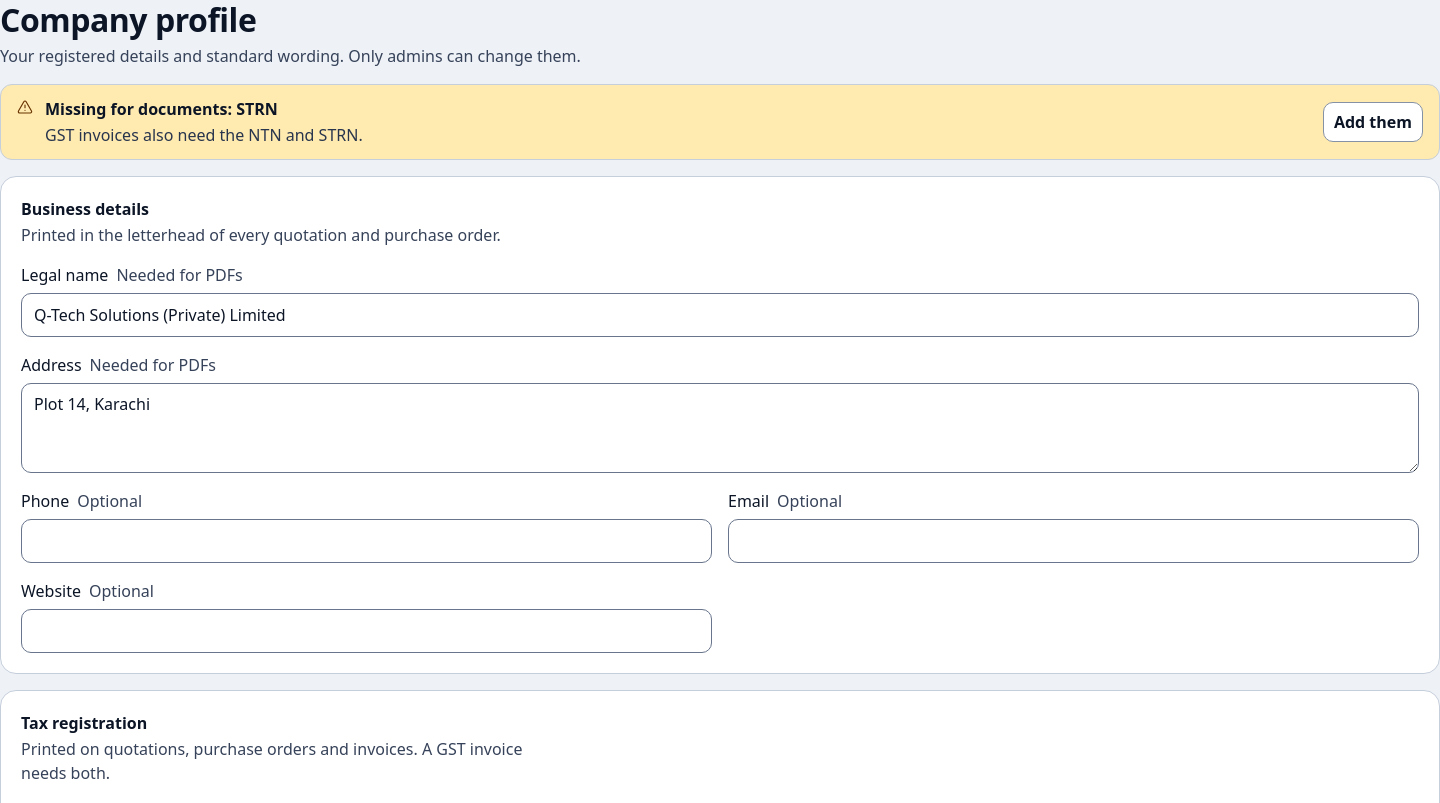
Test: Company profile screen › discard puts the saved values back
The image size is (1440, 803).
Type " Ltd" into the field labelled "Legal name" at (720, 315), box x1=21 y1=293 x2=1419 y2=337
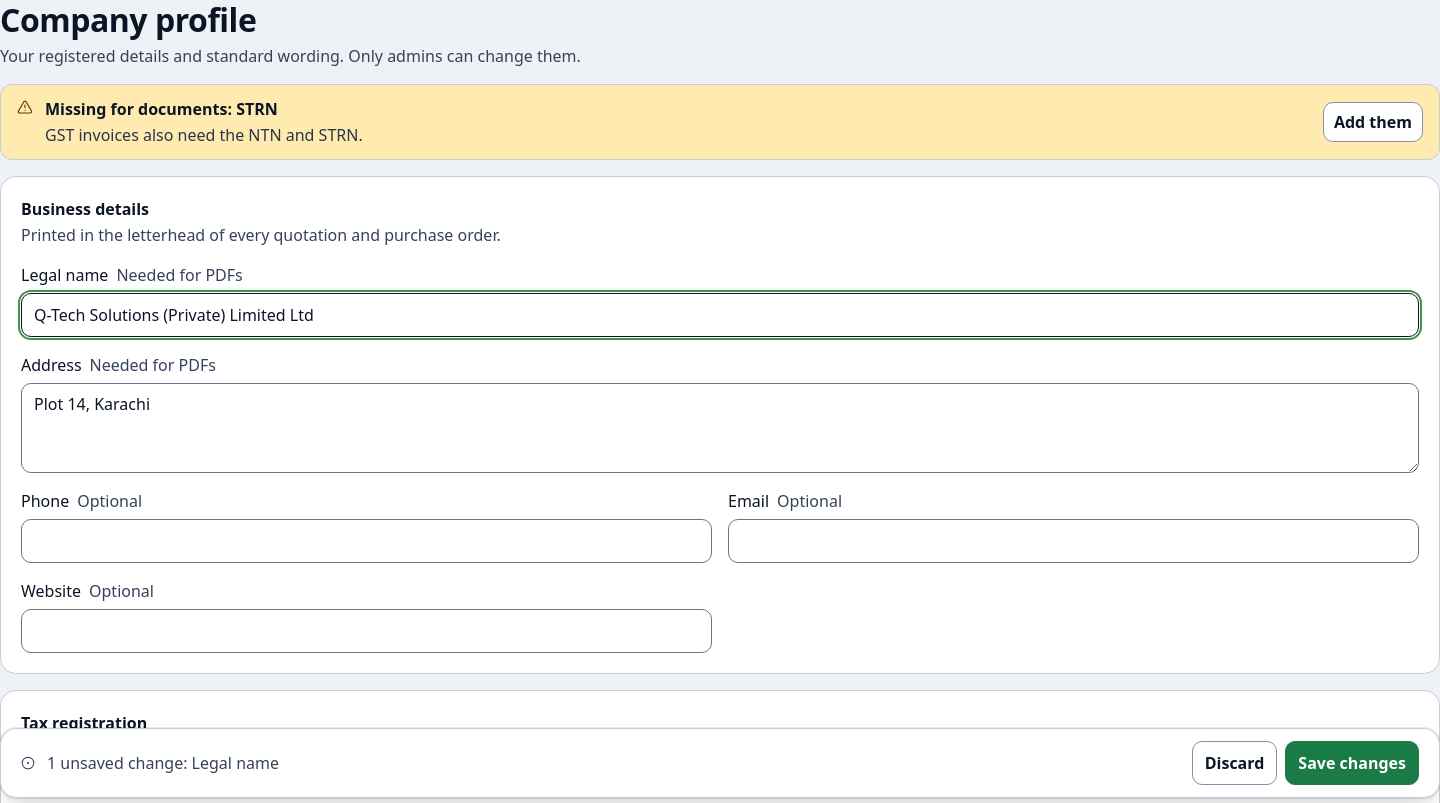
Click the button "Discard" at (1234, 763), box x1=1192 y1=741 x2=1277 y2=785
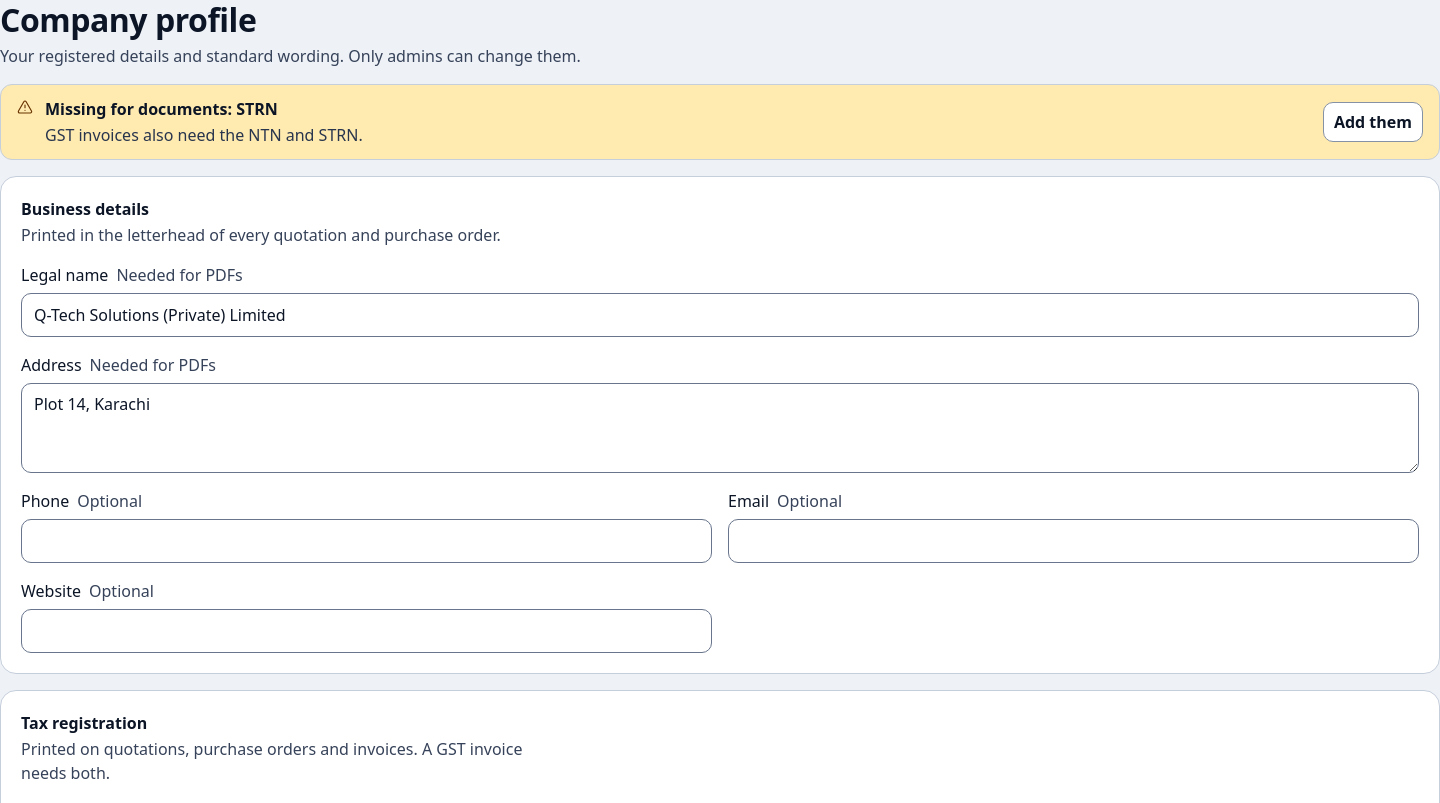
Expected: the field labelled "Legal name" holds "Q-Tech Solutions (Private) Limited", x1=21 y1=293 x2=1419 y2=337
